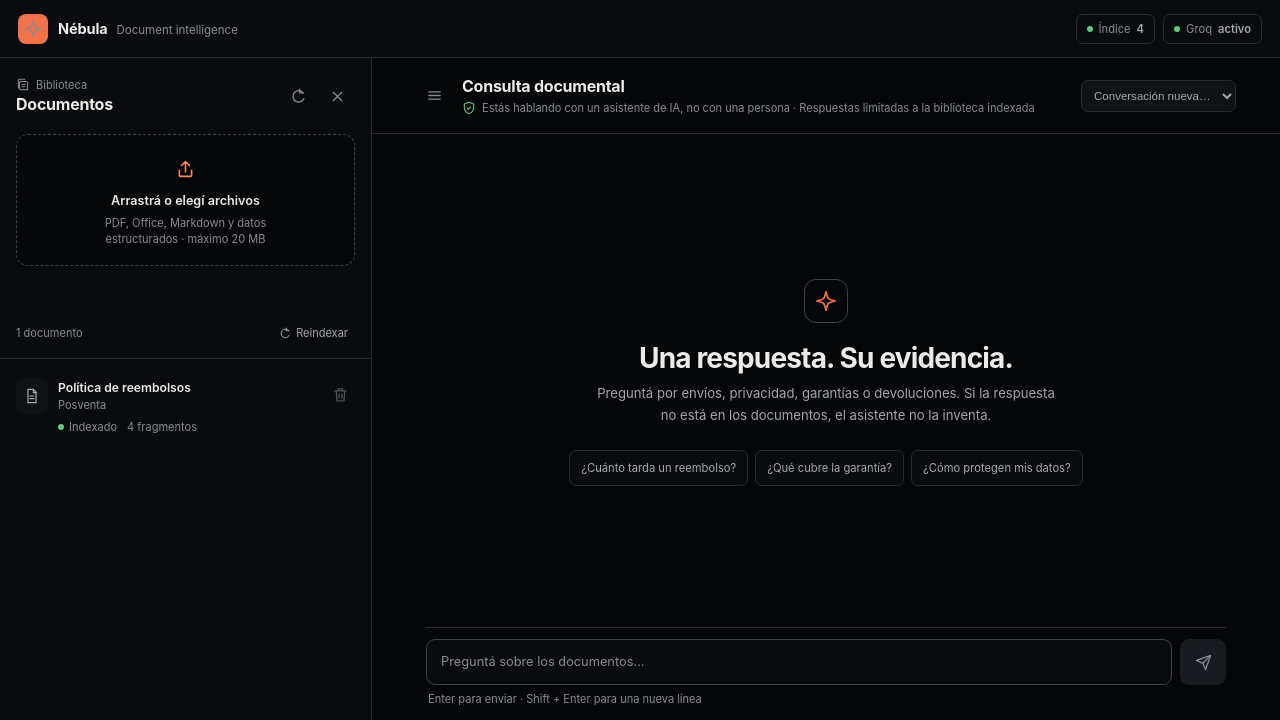
Scenario: Nébula RAG workspace › switches to a stored conversation from the session selector
Step 1. Select "Garantía de portátiles" in the dropdown named "Conversaciones guardadas" → (1158, 96), box [1081,80,1236,112]
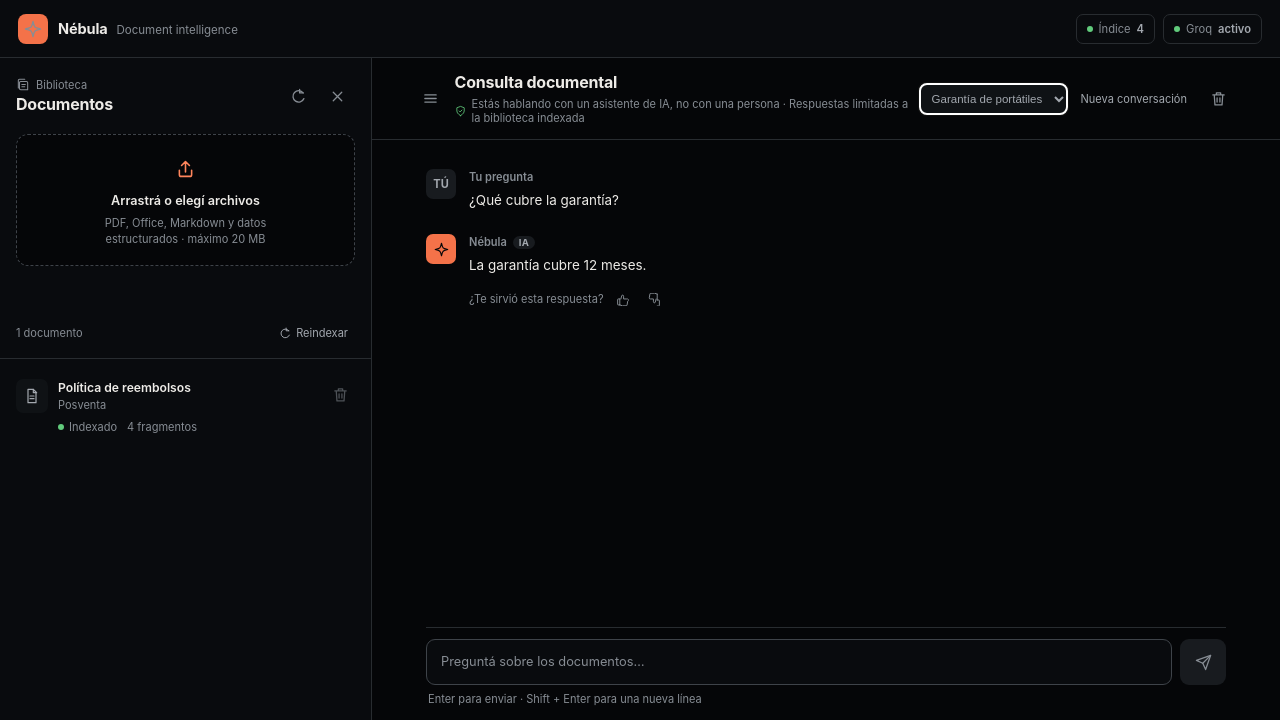
Expected: the text "La garantía cubre 12 meses." is shown, [469,257,646,273]
